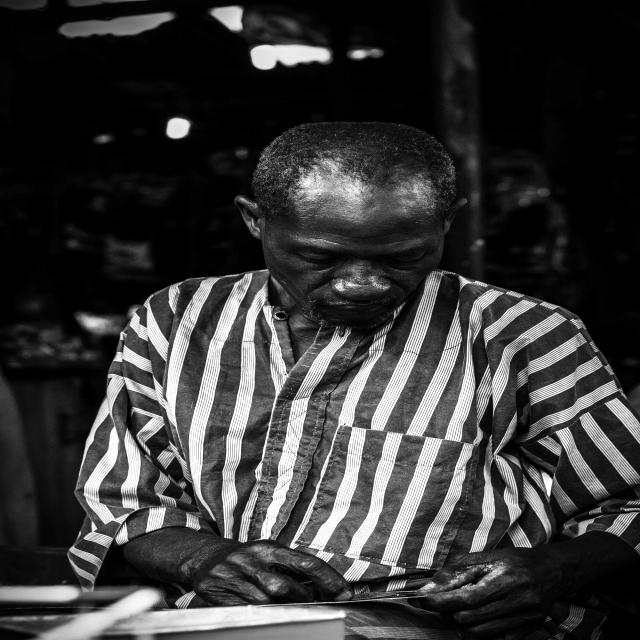No-Vest: (153, 281, 535, 600)
